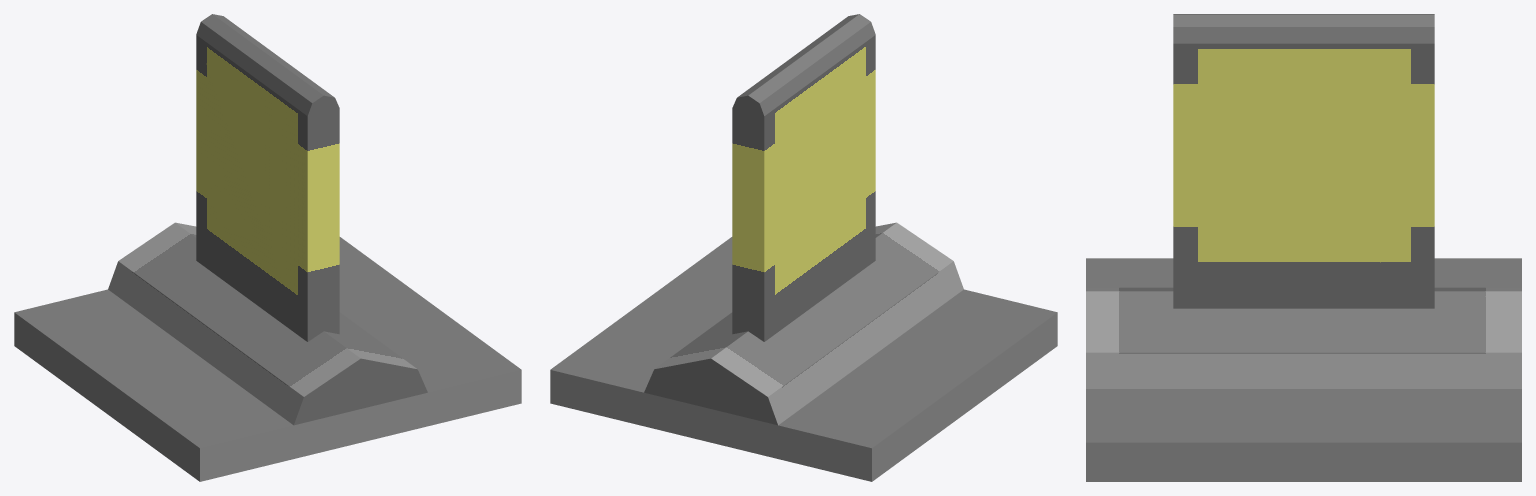
File: switch.fbx
3 views of the same model, side by side, from view 1: azimuth 30°, elevation 25°; view 2: azimuth 150°, elevation 25°; view 3: azimuth 270°, elevation 25° (orthographic). The views are drawn at different scales.
Parts seen in each view (by area): view 1: switch_frame, switch_trigger, switch_frame2; view 2: switch_frame, switch_trigger, switch_frame2; view 3: switch_trigger, switch_frame, switch_frame2.
Part boxes in pixels (x1=…): switch_frame: x1=14, y1=237, x2=521, y2=481; switch_trigger: x1=196, y1=14, x2=339, y2=341; switch_frame2: x1=108, y1=222, x2=427, y2=425; switch_frame: x1=550, y1=237, x2=1057, y2=481; switch_trigger: x1=732, y1=14, x2=875, y2=341; switch_frame2: x1=644, y1=222, x2=963, y2=425; switch_trigger: x1=1173, y1=14, x2=1434, y2=308; switch_frame: x1=1086, y1=258, x2=1521, y2=481; switch_frame2: x1=1086, y1=287, x2=1521, y2=388.
Bounding box in the file's own units: 200 × 190 × 200.
